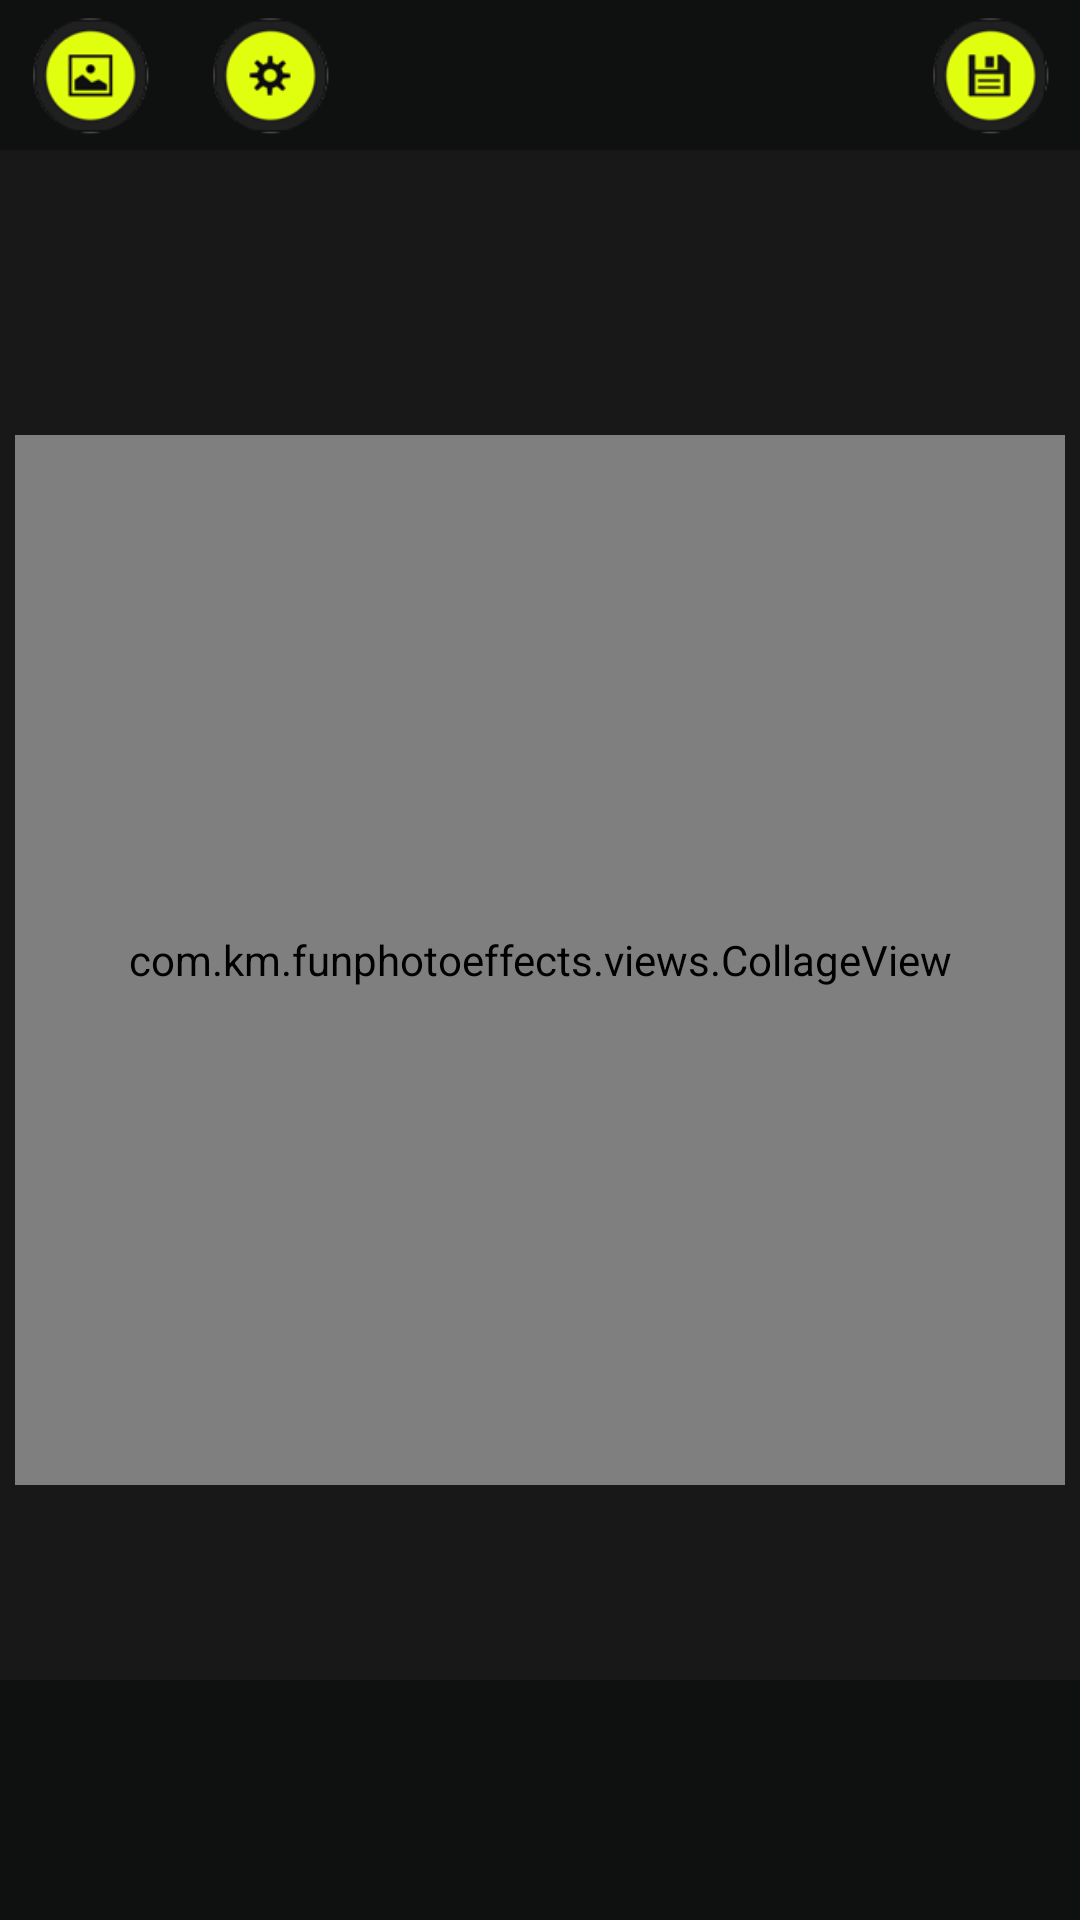

Point at icon controls on the screen. Image size 1080×1920, points as (x=x, y=y).
save: (x=991, y=76)
setting: (x=271, y=76)
